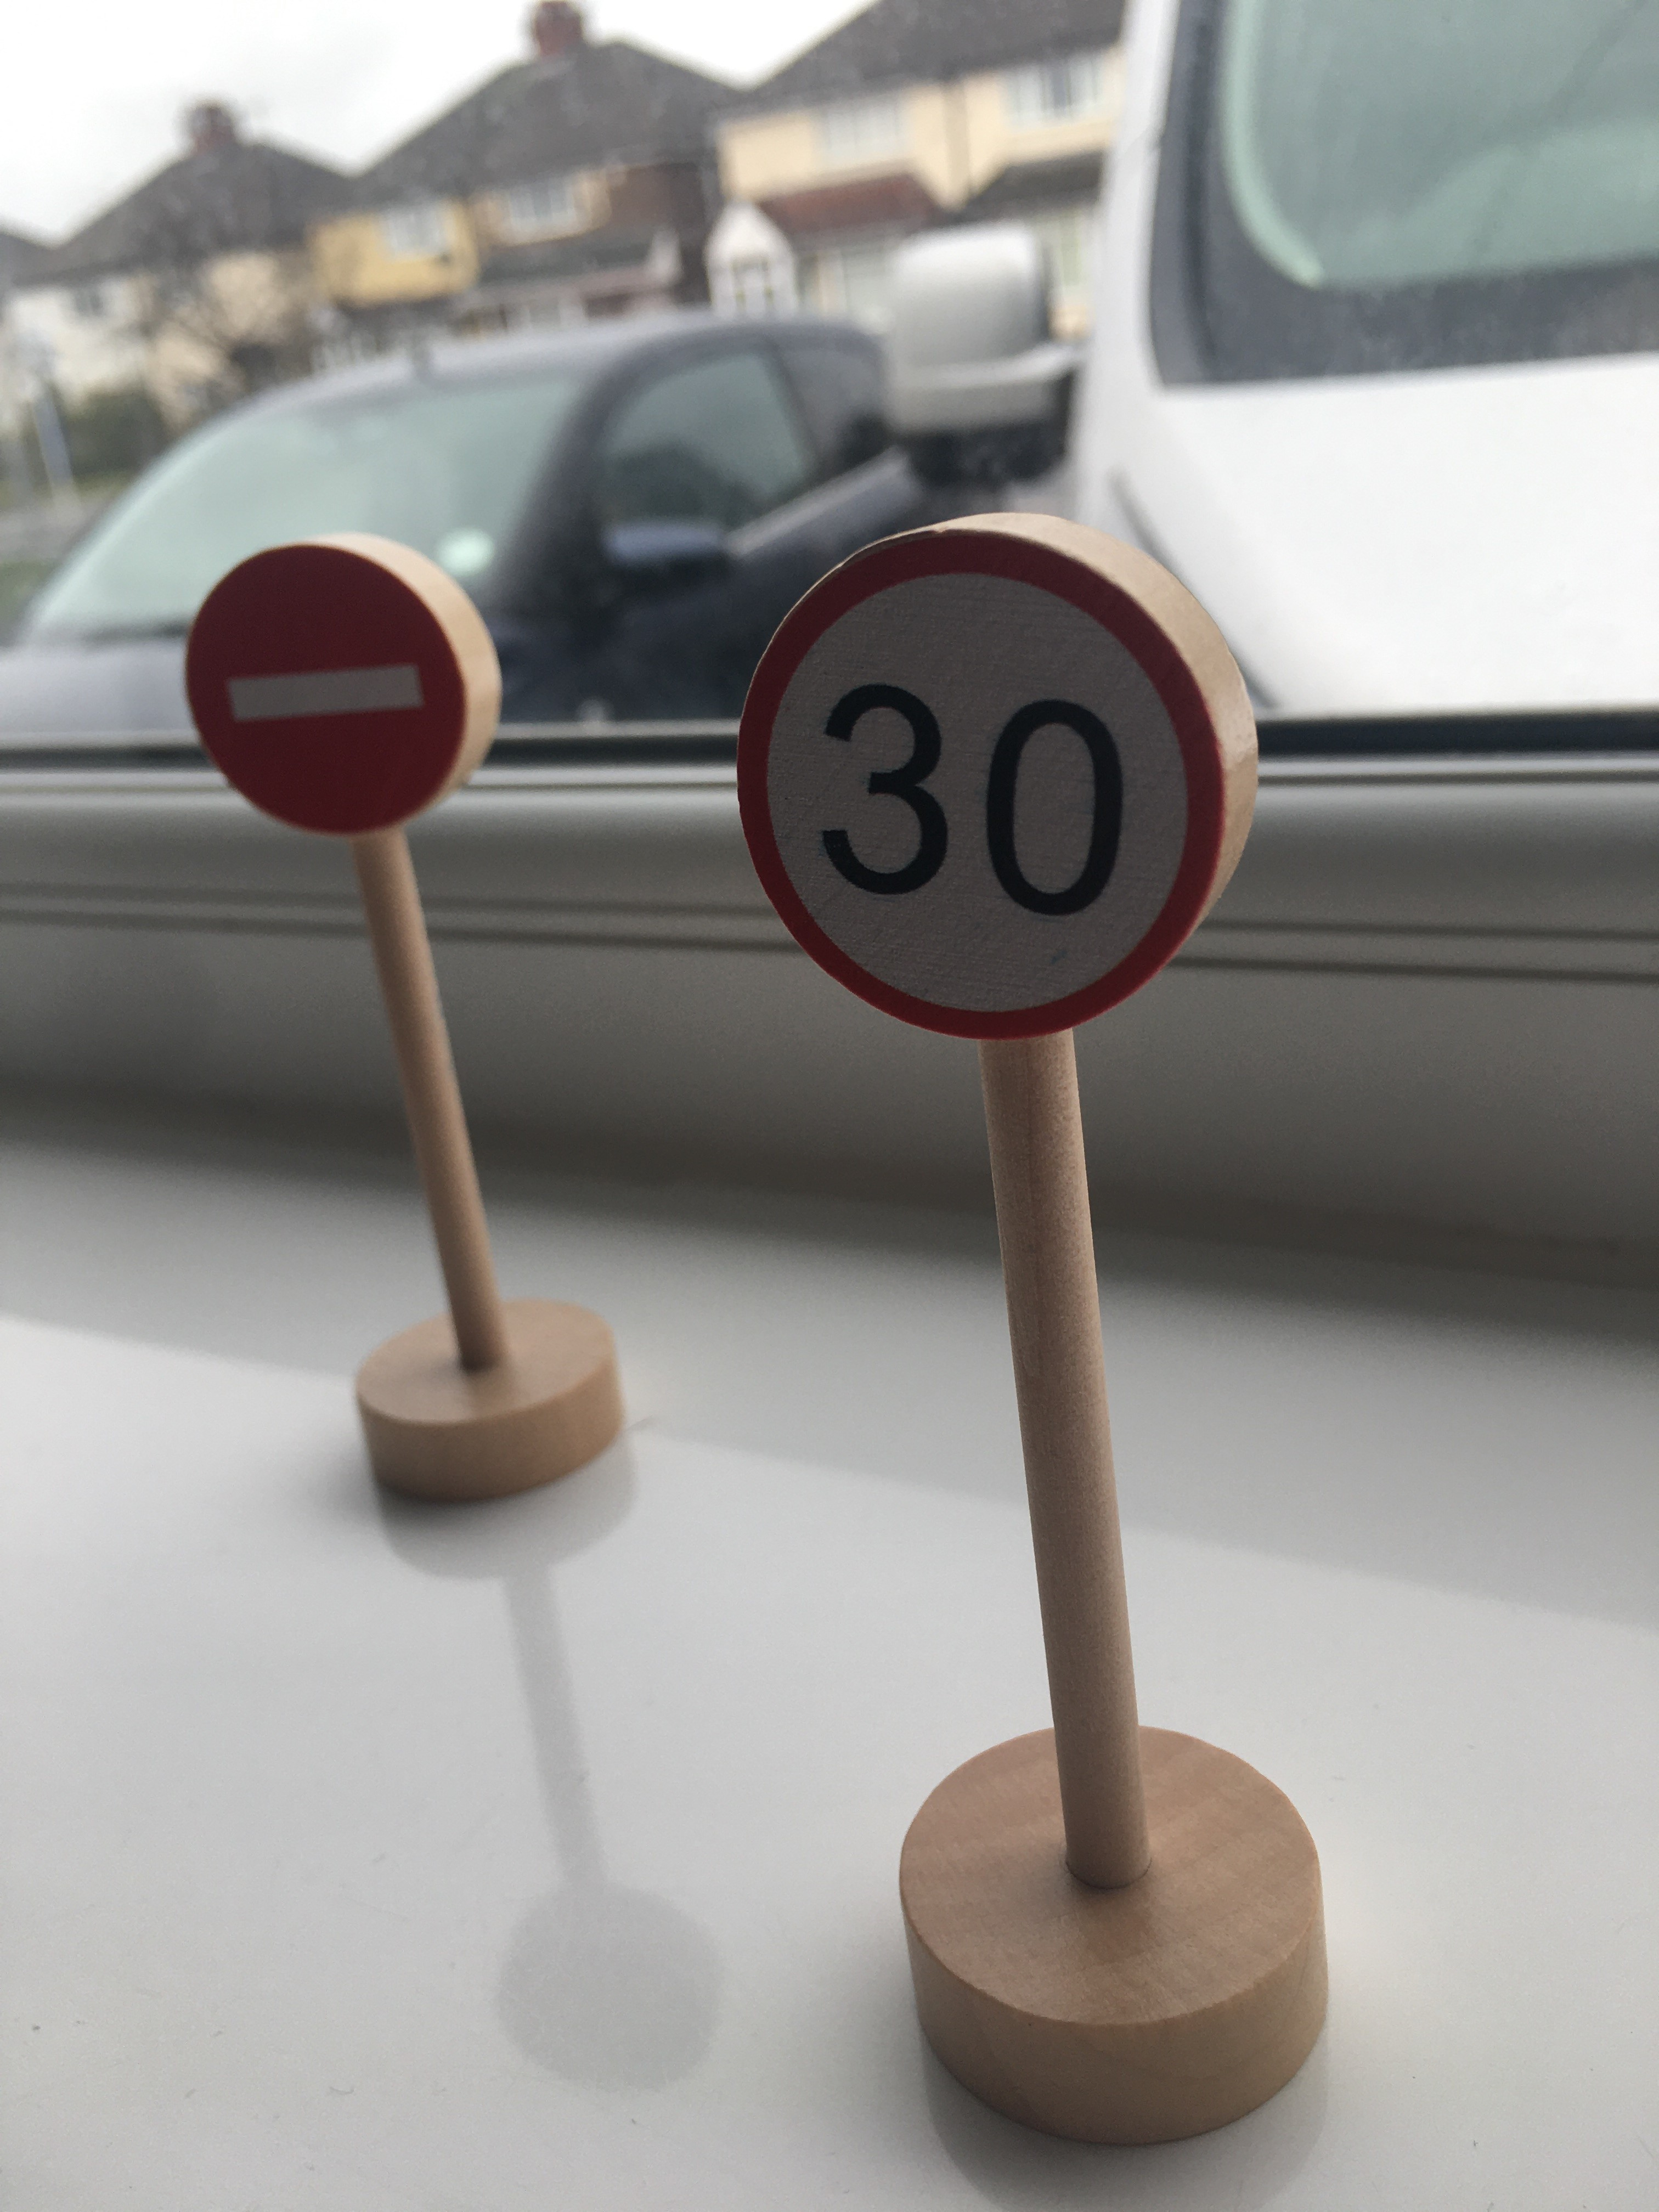Traffic_Sign_30: (741, 528, 1229, 1028)
Traffic_Sign_No_Entry: (186, 536, 465, 826)
